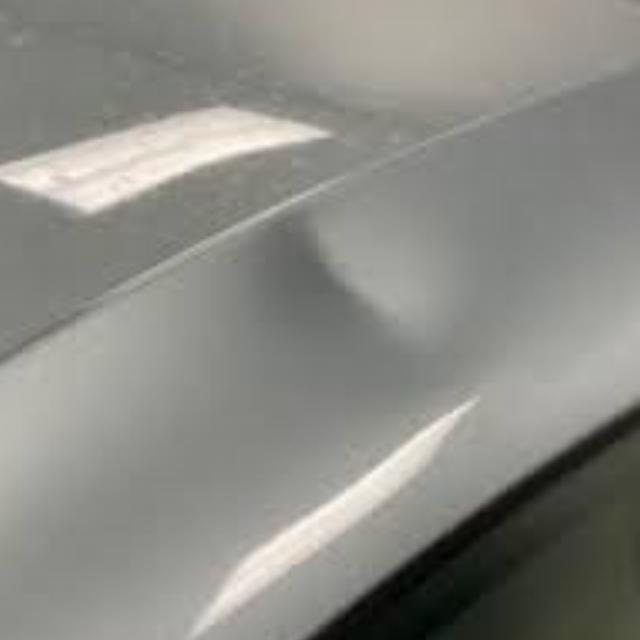dents: (260, 185, 435, 397)
